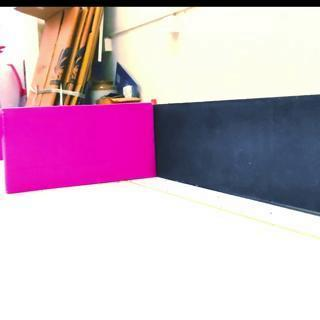xparking: (5, 111, 151, 188)
